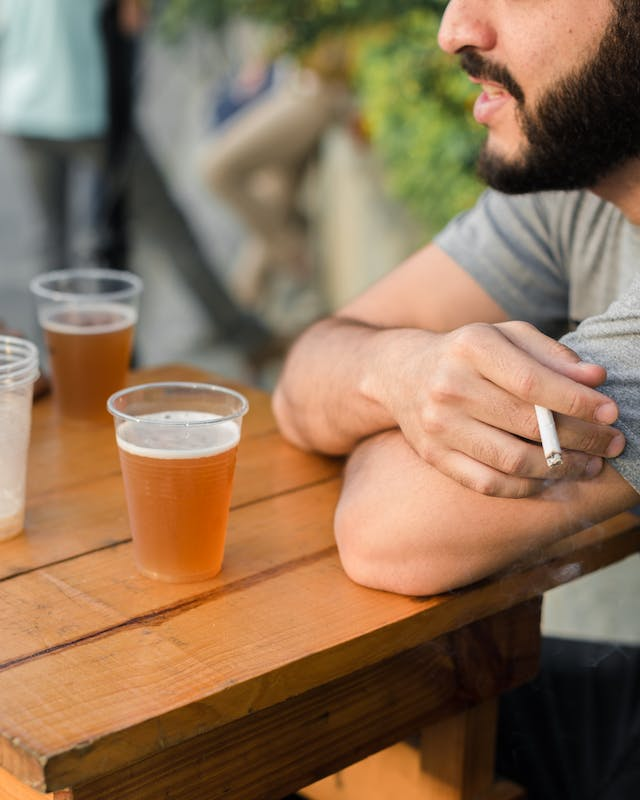Cigarette: (533, 400, 565, 468)
